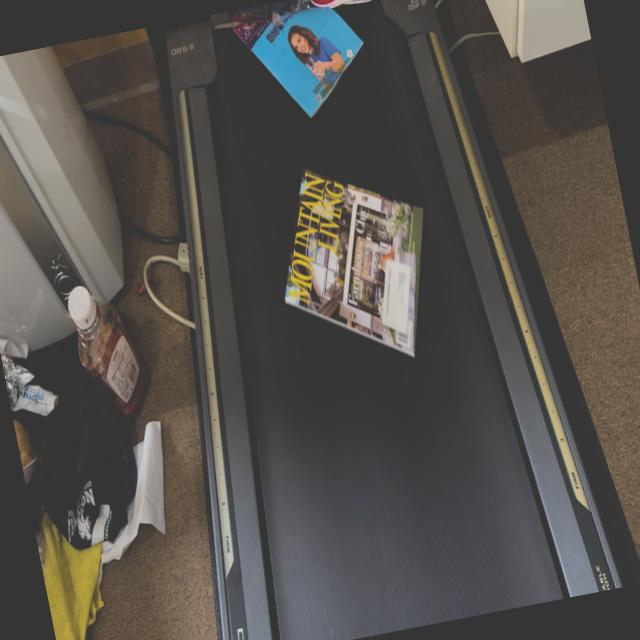Trash: (281, 132, 458, 384), (240, 23, 381, 119)
